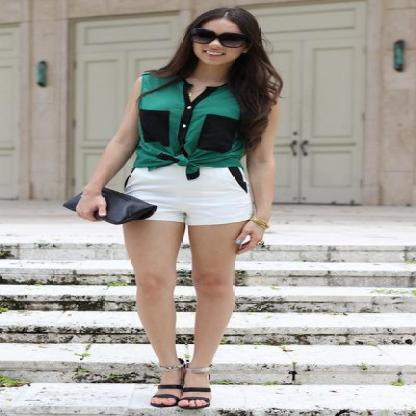bag: (62, 187, 156, 224)
shirt: (124, 75, 252, 179)
shorts: (129, 164, 252, 236)
sunglass: (182, 25, 243, 47)
